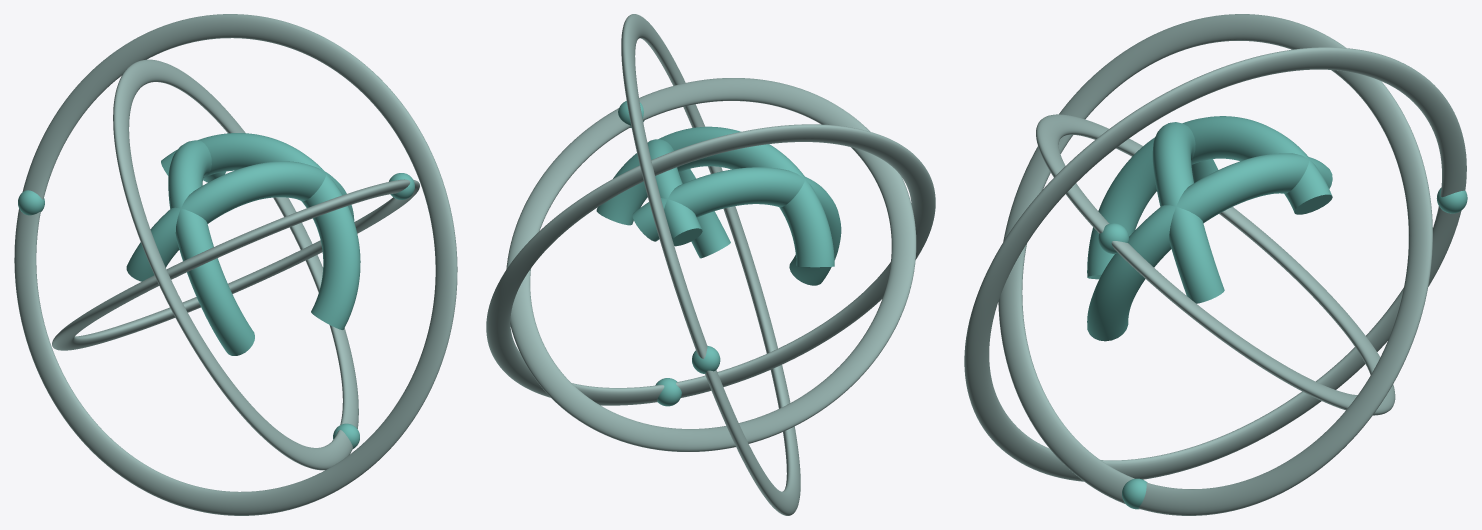
3 views of the same model, side by side, from view 1: azimuth 30°, elevation 25°; view 2: azimuth 150°, elevation 25°; view 3: azimuth 270°, elevation 25° (orthographic). The views are drawn at different scales.
Bounding box in the file's own units: 0.9518 × 1.13 × 1.06.
